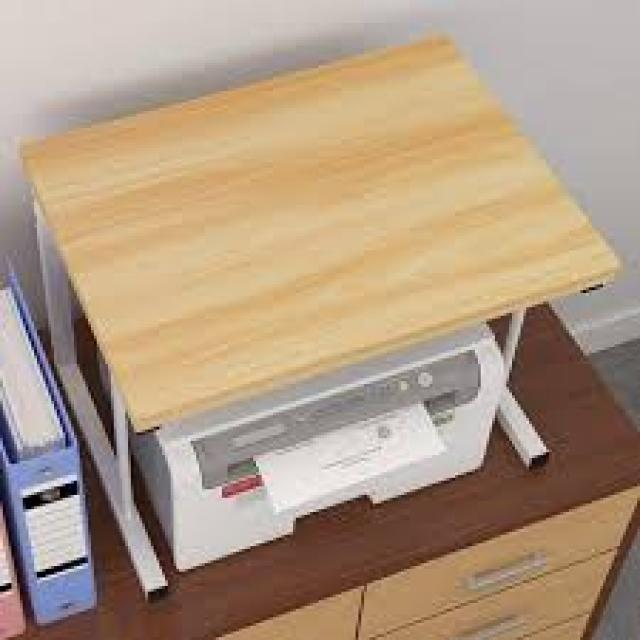printer: (133, 310, 506, 572)
